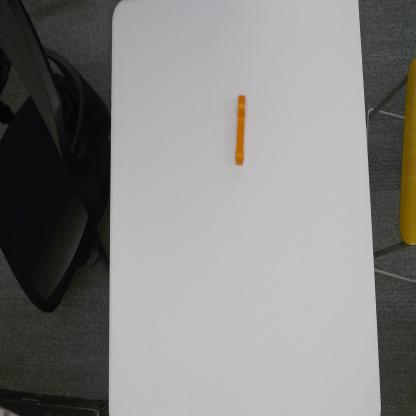Screwdriver: (234, 92, 247, 168)
